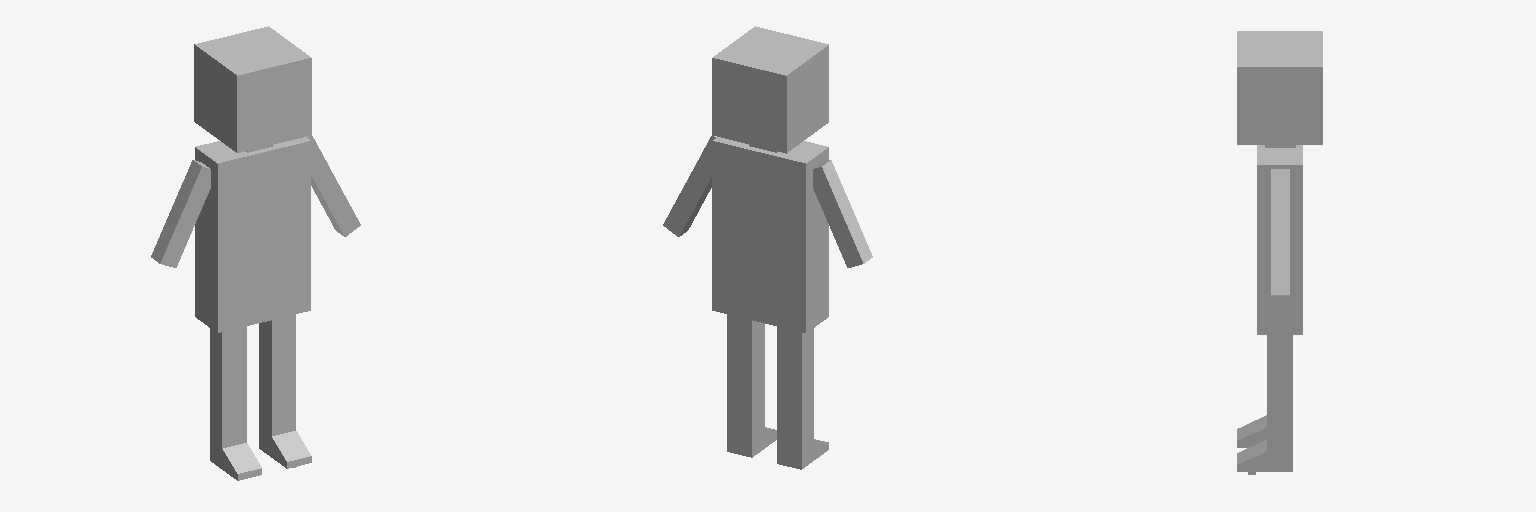
Rendered from player.obj.
3 views of the same model, side by side, from view 1: azimuth 30°, elevation 25°; view 2: azimuth 150°, elevation 25°; view 3: azimuth 270°, elevation 25° (orthographic).
Visible parts, largest first — view 1: Cube.006; view 2: Cube.006; view 3: Cube.006.
Part boxes in pixels (left/top/right/bottom): Cube.006: left=151, top=26, right=360, bottom=480; Cube.006: left=663, top=26, right=872, bottom=469; Cube.006: left=1237, top=31, right=1322, bottom=474.
Size of the model in its own units: 2.48 by 4.84 by 0.9174.